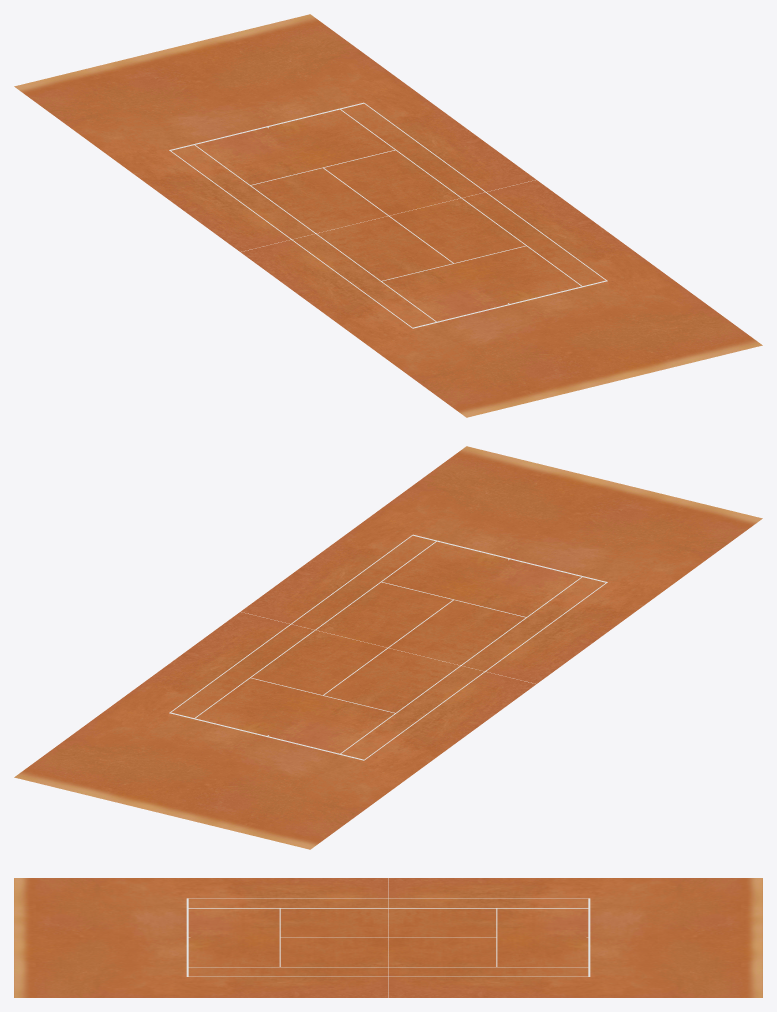
File: court_1.obj
The picture shows the model from 3 angles, top to bottom: view 1: azimuth 30°, elevation 25°; view 2: azimuth 150°, elevation 25°; view 3: azimuth 270°, elevation 25°; orthographic projection. The views are drawn at different scales.
Bounding box in the file's own units: 16.72 × 0.0178 × 44.21.
2 materials, 2 textured.
